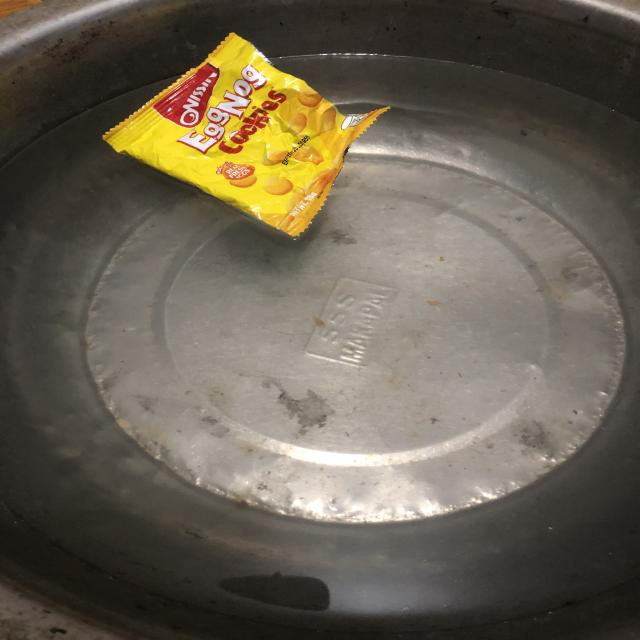Plastic Wrapper: (94, 34, 387, 242)
